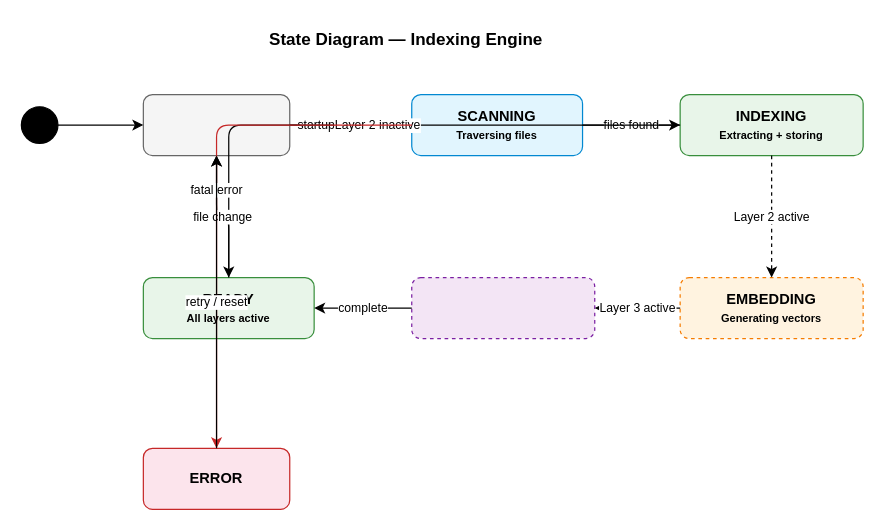
This 885x531 diagram has some shape labels left out. The shapes that lost their labels are listed below. From the top down, each one's centre as x and y in pixels, then its label:
At pixel 216 124: "IDLE".
At pixel 503 307: "SUMMARIZING AI summaries".
